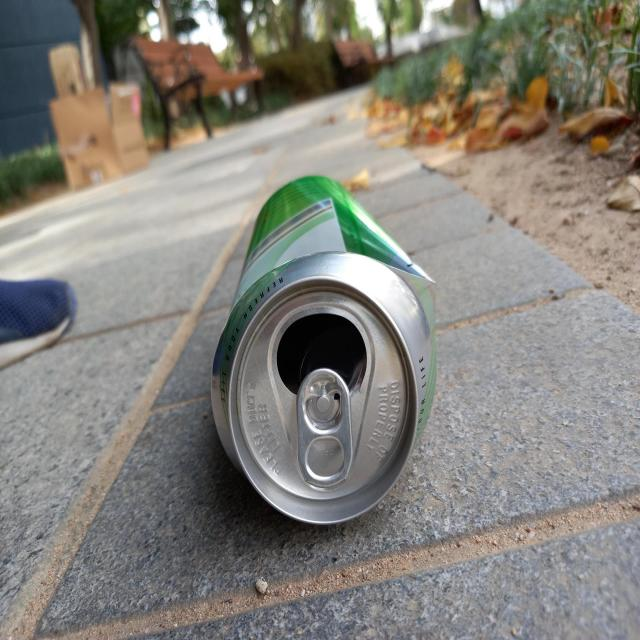can: (211, 175, 437, 524)
